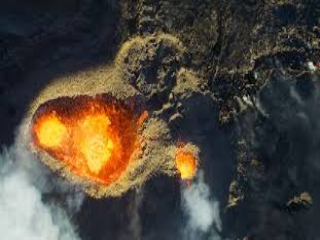fire: (37, 107, 131, 175), (172, 147, 199, 181)
